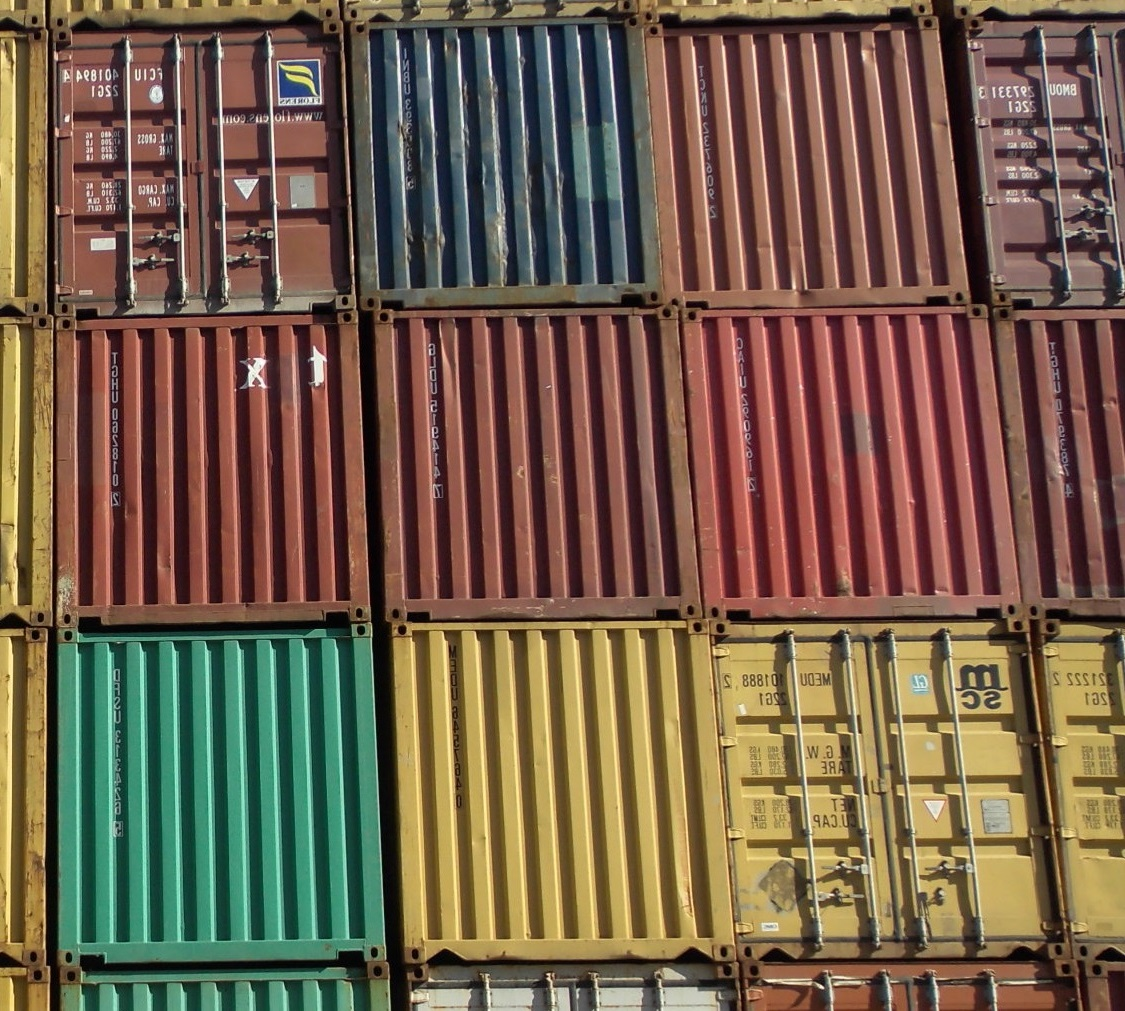container_door: (710, 620, 1075, 965), (53, 24, 350, 313)
container_no_door: (376, 615, 715, 959), (50, 622, 388, 965), (683, 307, 1026, 621), (371, 301, 690, 616), (50, 305, 366, 621), (355, 21, 668, 302), (669, 22, 981, 303)
